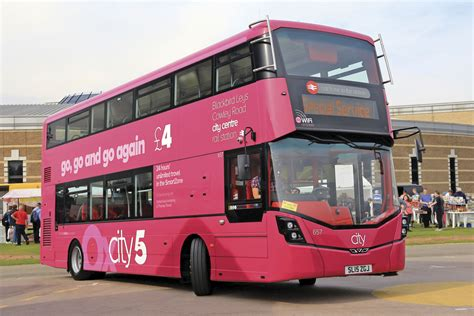bus: (39, 33, 407, 285)
